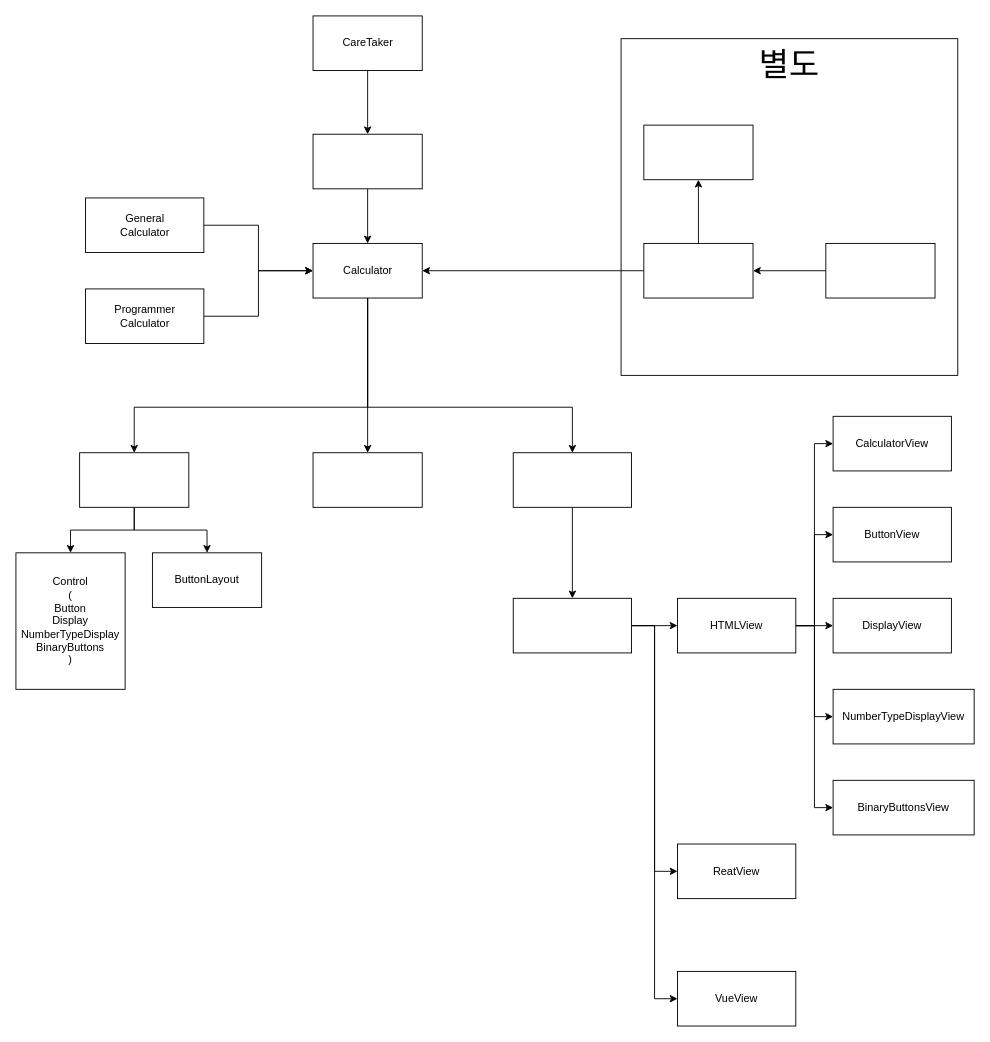
Image size: 990x1042. Some labels were removed from this diagram. Here are the shapes that lost their labels. From the top down, the centre of each, then its label:
point 367,161: Operator
point 698,152: HistoryDisplay
point 698,270: CalculatorLayout
point 880,270: Main
point 134,479: Generator
point 367,479: Event
point 572,479: Renderer
point 572,625: View
